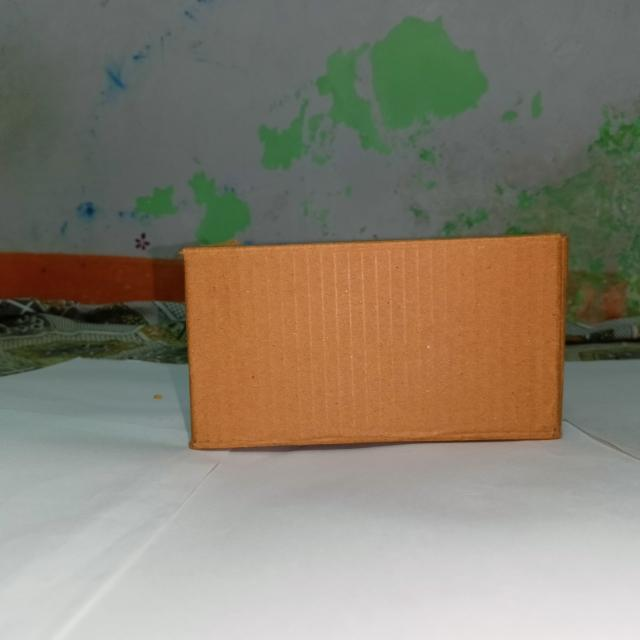box: (184, 237, 568, 447)
